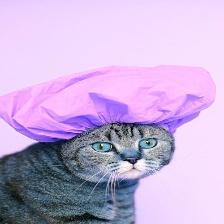kedo: (0, 123, 175, 224)
